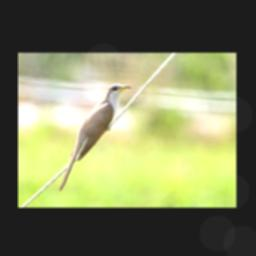Cuckoo: (56, 83, 132, 194)
